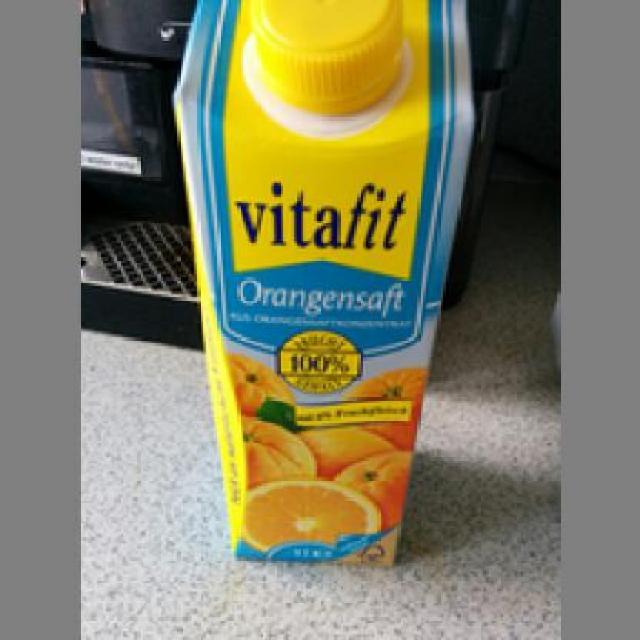Juice: (168, 0, 472, 563)
